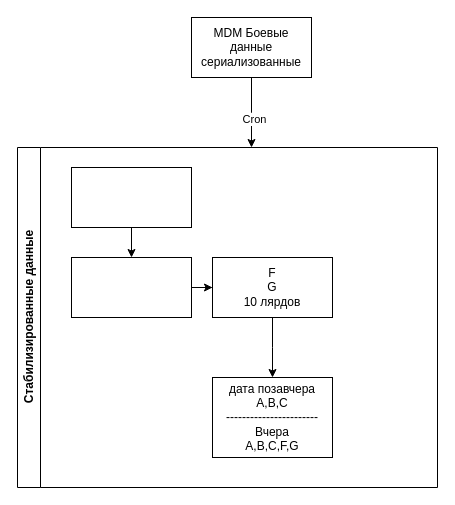
The diagram is 455 pixels wide and 505 high, and some of its shapes have lost their labels. Here are the shapes that lost their labels. From the top down, the box of each, then its label:
(70, 166, 192, 228): Было
(70, 256, 192, 318): A B C 10 лярдов
